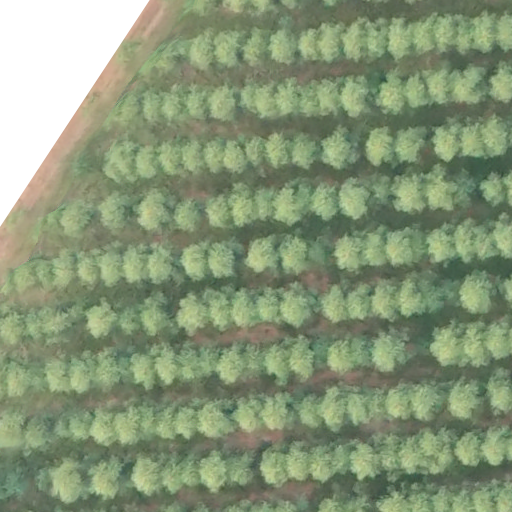eucalipto: (404, 427, 453, 474), (41, 455, 86, 504), (315, 125, 361, 171), (86, 452, 126, 502), (444, 378, 487, 423), (131, 188, 174, 232), (426, 326, 468, 370), (54, 194, 95, 239), (389, 278, 431, 321), (383, 225, 424, 269), (334, 176, 372, 223), (447, 64, 489, 106), (225, 183, 261, 232), (194, 398, 236, 440), (453, 275, 496, 316), (331, 232, 371, 276), (174, 291, 211, 337), (424, 167, 460, 214), (407, 382, 448, 423), (128, 455, 167, 498), (339, 70, 372, 120), (375, 70, 410, 117), (97, 189, 136, 231), (271, 180, 305, 228), (390, 173, 426, 218), (91, 348, 125, 395), (214, 344, 250, 388), (102, 140, 137, 185), (375, 435, 409, 481), (242, 235, 279, 277), (391, 124, 427, 167), (477, 115, 512, 159), (259, 441, 291, 489), (317, 384, 347, 435), (144, 238, 175, 287), (83, 299, 119, 341), (347, 439, 382, 482), (199, 449, 231, 496), (278, 234, 312, 278), (179, 239, 211, 285), (453, 215, 483, 264), (372, 334, 406, 377), (307, 181, 343, 221), (288, 334, 318, 382), (463, 324, 495, 368), (281, 289, 314, 331), (369, 282, 402, 324), (486, 366, 512, 419), (481, 425, 512, 469), (286, 132, 320, 172), (383, 382, 416, 423), (229, 288, 259, 333), (259, 395, 293, 434), (341, 390, 375, 429), (426, 225, 458, 266), (205, 290, 234, 335), (365, 126, 396, 168), (137, 302, 173, 338), (205, 85, 239, 123), (323, 339, 357, 377), (385, 17, 413, 63), (172, 196, 205, 235), (429, 14, 460, 55), (470, 13, 498, 58), (129, 351, 159, 393), (452, 430, 485, 468), (478, 171, 510, 210), (205, 190, 237, 229), (318, 284, 350, 323), (271, 75, 300, 118), (183, 81, 212, 124), (267, 26, 298, 66), (293, 393, 324, 433), (241, 27, 269, 71), (430, 123, 460, 164), (263, 345, 293, 386), (317, 21, 344, 66), (206, 241, 237, 280), (457, 122, 486, 163), (152, 346, 181, 387), (230, 397, 262, 434), (264, 129, 292, 171), (343, 286, 373, 325), (409, 16, 436, 59), (308, 442, 335, 485), (155, 140, 184, 180), (112, 410, 142, 448), (214, 30, 241, 72), (158, 83, 187, 122), (487, 61, 512, 106), (255, 79, 281, 122), (76, 249, 102, 292), (226, 452, 257, 488), (219, 139, 249, 176), (88, 411, 117, 449), (121, 243, 147, 285), (284, 442, 311, 482), (423, 66, 449, 107), (316, 75, 340, 118), (363, 229, 388, 270), (296, 26, 322, 65), (99, 250, 125, 289), (133, 143, 158, 183), (44, 358, 71, 395), (179, 140, 205, 178), (172, 405, 200, 440), (255, 292, 283, 326), (189, 34, 214, 72), (69, 360, 94, 397), (116, 305, 143, 339), (202, 138, 226, 176), (153, 408, 179, 443), (453, 14, 475, 55), (405, 72, 429, 109), (138, 88, 162, 125), (328, 442, 354, 476), (494, 214, 512, 263), (494, 10, 512, 54)
